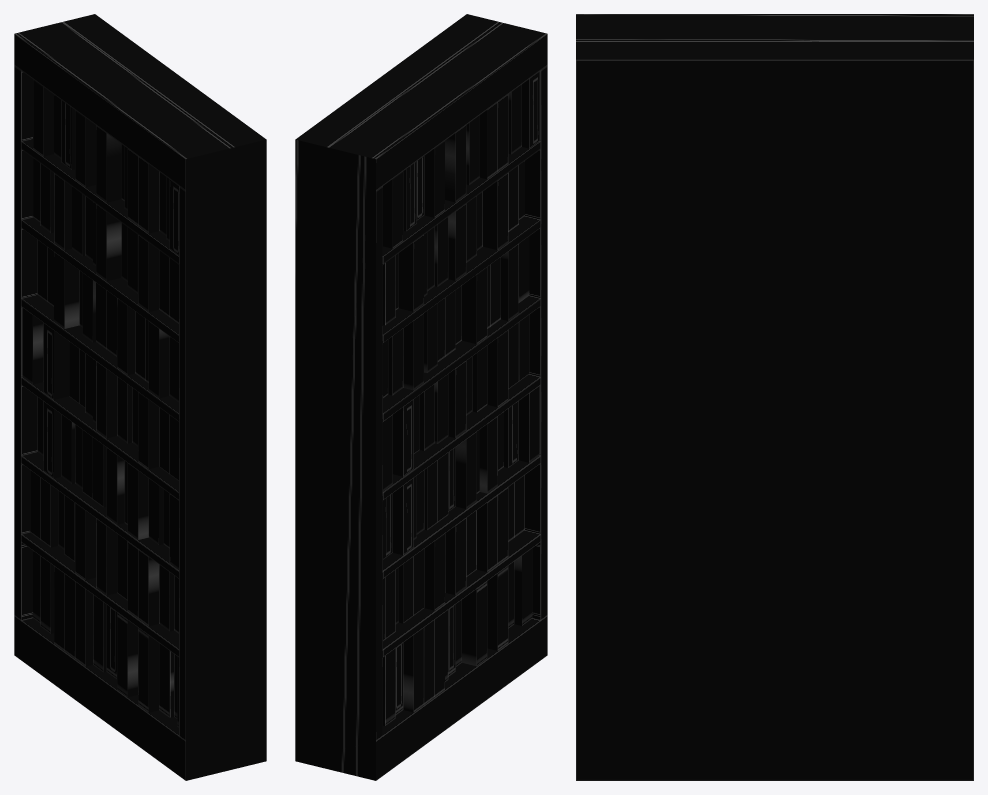
The model's file is ShelfV6.fbx.
The picture shows the model from 3 angles, left to right: view 1: azimuth 30°, elevation 25°; view 2: azimuth 150°, elevation 25°; view 3: azimuth 270°, elevation 25°; orthographic projection. The views are drawn at different scales.
Parts seen in each view (by area): view 1: pCube2; view 2: pCube2; view 3: pCube2.
Boxes of the visible parts, x1,y1,x2,y2 form: pCube2: (14, 14, 266, 780); pCube2: (295, 14, 547, 780); pCube2: (576, 14, 973, 780).
Bounding box in the file's own units: 54.31 × 400 × 200.
Materials: 1 (1 with a texture image).
